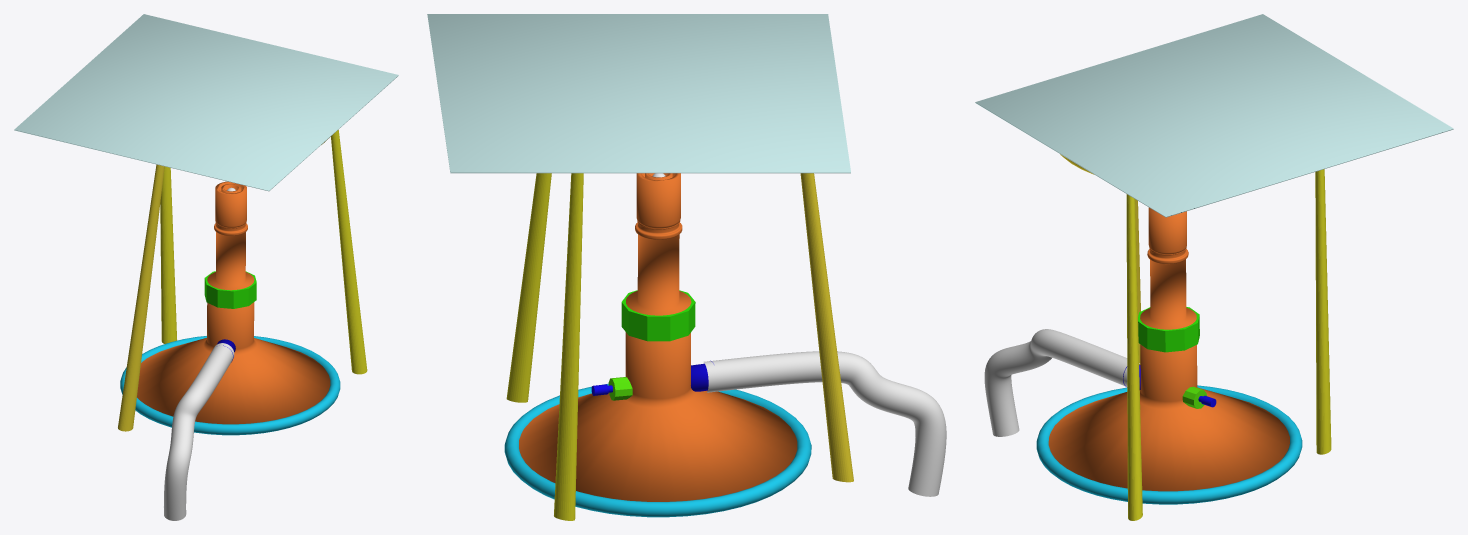
File: finalbunsenNov19.glb
The picture shows the model from 3 angles, left to right: view 1: azimuth 30°, elevation 25°; view 2: azimuth 150°, elevation 25°; view 3: azimuth 270°, elevation 25°; orthographic projection. The views are drawn at different scales.
Visible parts, largest first — view 1: top-Plane, busernburner.007, ring-stand; view 2: top-Plane, busernburner.007, ring-stand; view 3: top-Plane, busernburner.007, ring-stand.
Boxes of the visible parts, bbox=[...] form: top-Plane: bbox=[14, 14, 398, 191]; busernburner.007: bbox=[120, 181, 340, 520]; ring-stand: bbox=[118, 130, 367, 431]; top-Plane: bbox=[427, 14, 850, 173]; busernburner.007: bbox=[504, 173, 946, 517]; ring-stand: bbox=[506, 173, 853, 520]; top-Plane: bbox=[975, 14, 1453, 217]; busernburner.007: bbox=[984, 207, 1302, 504]; ring-stand: bbox=[1060, 154, 1331, 520].
Bounding box in the file's own units: 0.1969 × 0.1797 × 0.1964.
